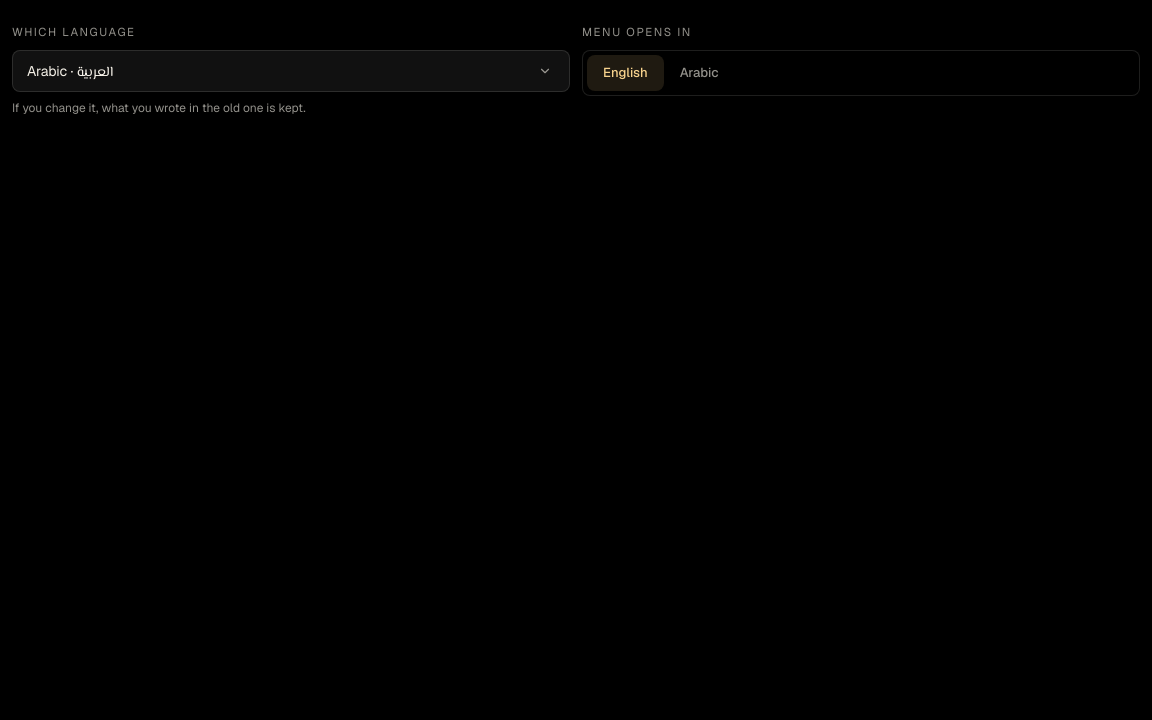
Test case: LanguageChoice › writes the saved languages into the session, so the pickers follow
The image size is (1152, 720).
Click the dropdown labelled "Which language": (291, 71) [13,51,569,91]
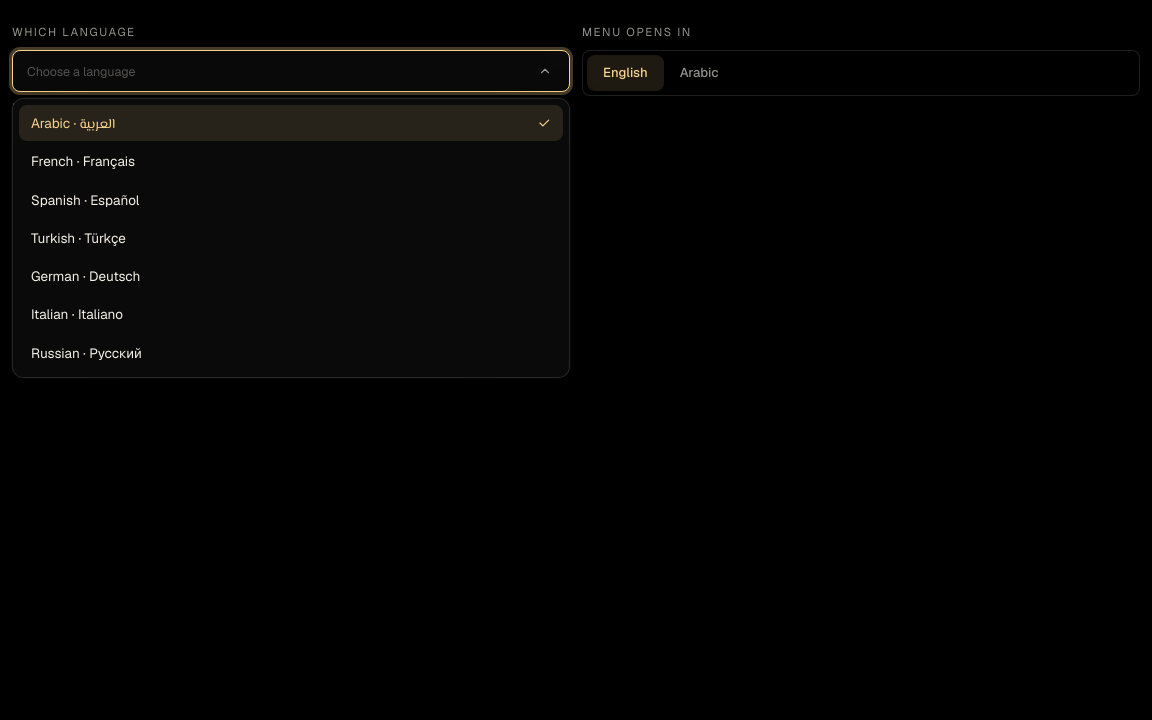
// Earlier tests' toasts can still be up, so count the new one.
Click the option "French · Français": (83, 161) [31,152,135,170]
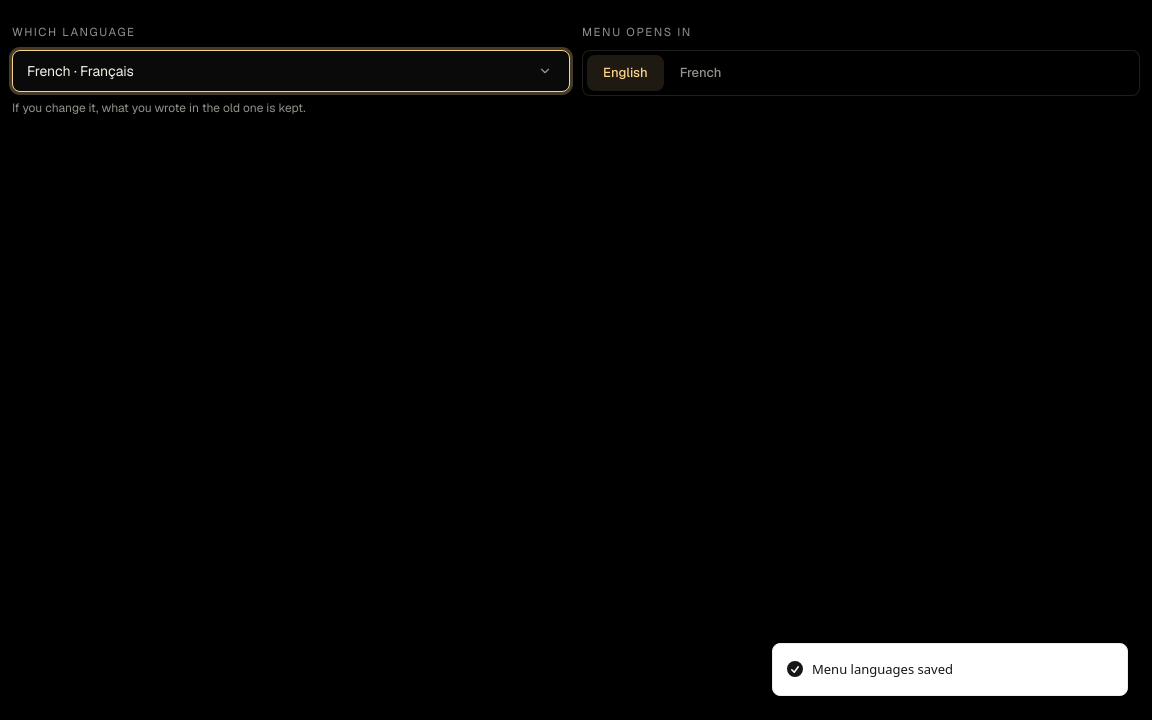
Expected: the tab "French" is shown, [664,55,737,90]
Expected: the option "Arabic" is gone
Expected: the text "Menu languages saved" is shown once, [812,660,953,679]
